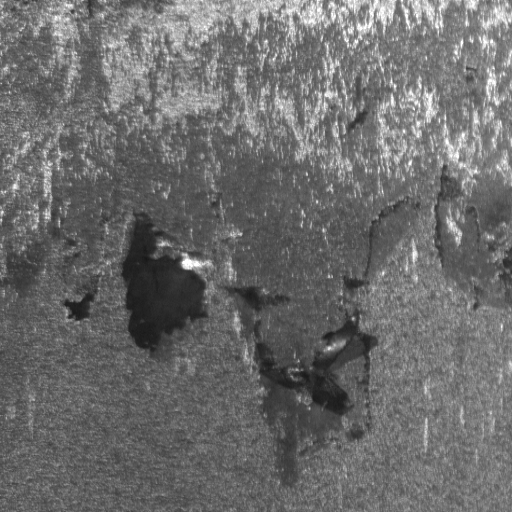aokeng: (232, 284, 378, 420), (121, 209, 211, 356)
